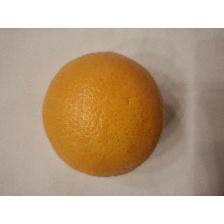Orange: (42, 50, 166, 178)
